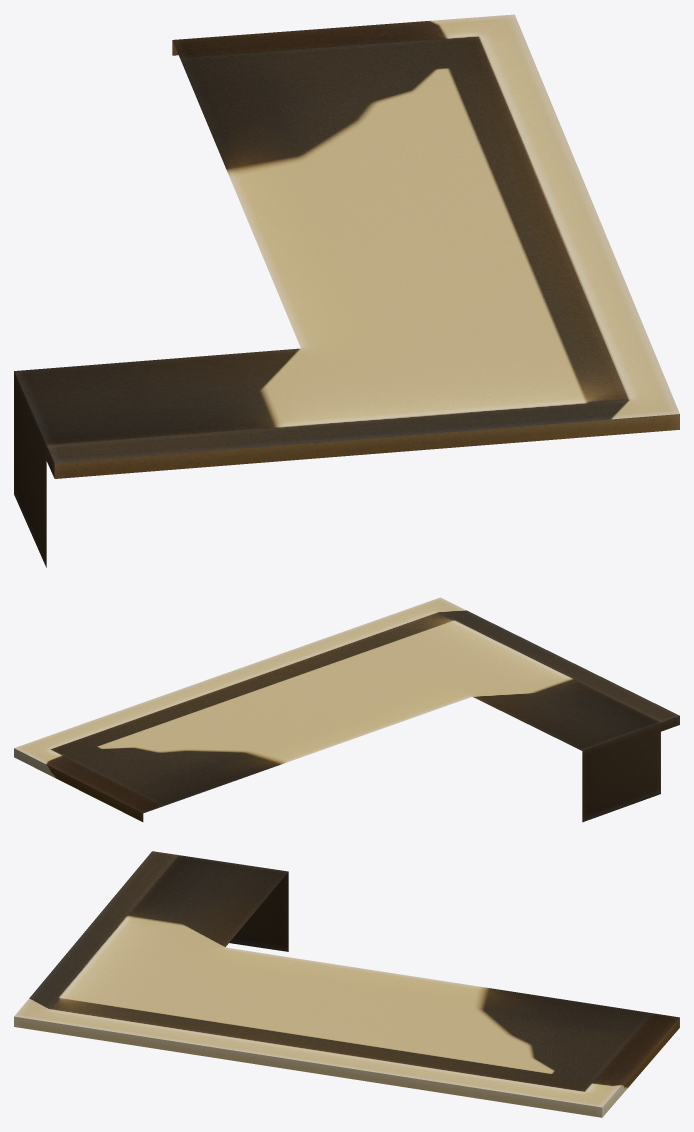
File: Buildng_05_Cafe_Rooftop.fbx
3 views of the same model, one above another, from view 1: azimuth 30°, elevation 25°; view 2: azimuth 150°, elevation 25°; view 3: azimuth 270°, elevation 25° (orthographic). The views are drawn at different scales.
Visible parts, largest first — view 1: Buildng_05_Cafe_Rooftop; view 2: Buildng_05_Cafe_Rooftop; view 3: Buildng_05_Cafe_Rooftop.
Part boxes in pixels (x1,y1,x2,y2): Buildng_05_Cafe_Rooftop: (14, 14, 679, 567); Buildng_05_Cafe_Rooftop: (14, 597, 679, 822); Buildng_05_Cafe_Rooftop: (14, 851, 679, 1117).
Bounding box in the file's own units: 18.87 × 2.76 × 20.72.
Materials: 1 (1 with a texture image).
